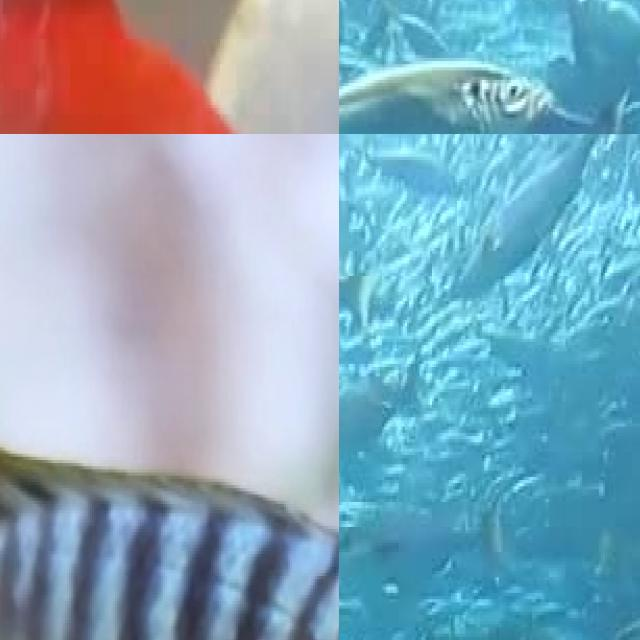fish: (0, 0, 339, 134), (339, 64, 555, 134)
